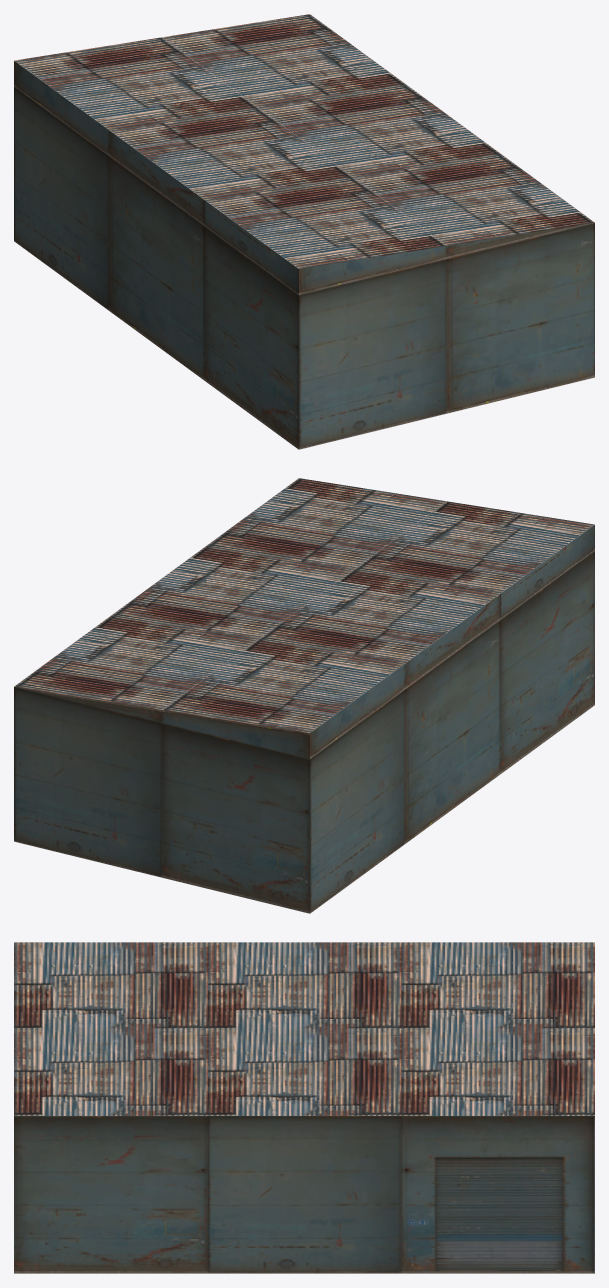
Rendered from BuildingE.fbx.
3 views of the same model, one above another, from view 1: azimuth 30°, elevation 25°; view 2: azimuth 150°, elevation 25°; view 3: azimuth 270°, elevation 25° (orthographic).
Visible parts, largest first — view 1: Building_E.001; view 2: Building_E.001; view 3: Building_E.001.
Part boxes in pixels (bbox=[...]): Building_E.001: bbox=[14, 14, 594, 449]; Building_E.001: bbox=[14, 478, 594, 913]; Building_E.001: bbox=[14, 942, 594, 1273].
Bounding box in the file's own units: 1200 × 700 × 2000.
Materials: 1 (1 with a texture image).
